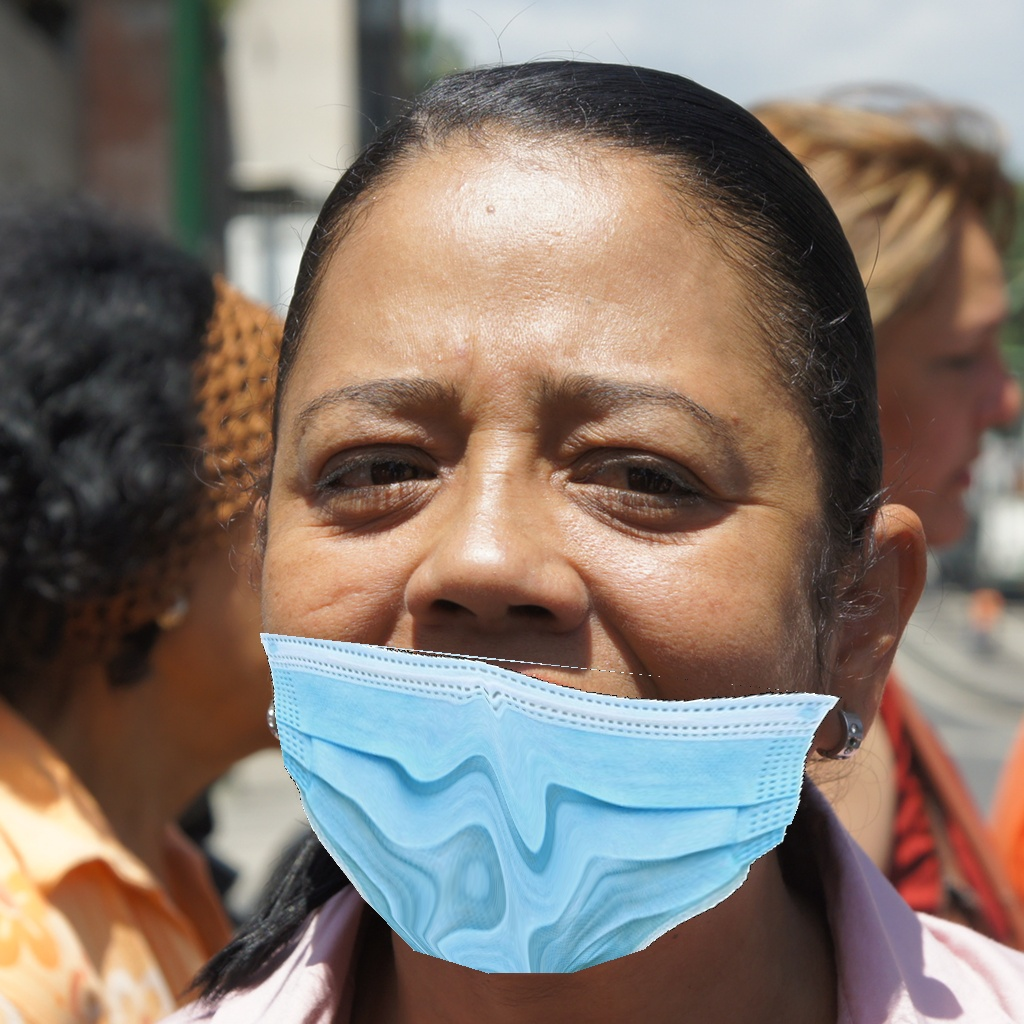mascarilla_mal_puesta: (292, 338, 827, 943)
